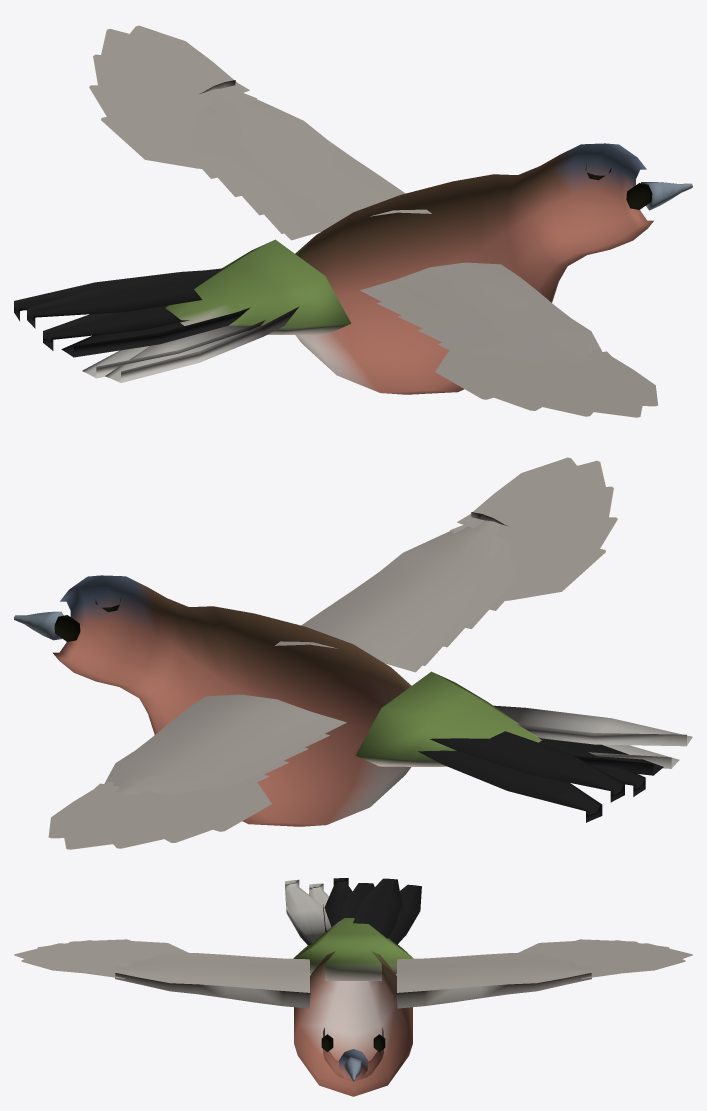
The model's file is SM_Bird_chaffinch_glide_LOD1.glb.
The picture shows the model from 3 angles, top to bottom: view 1: azimuth 30°, elevation 25°; view 2: azimuth 150°, elevation 25°; view 3: azimuth 270°, elevation 25°; orthographic projection. The views are drawn at different scales.
Parts seen in each view (by area): view 1: SM_Bird_chaffinch_glide_LOD1; view 2: SM_Bird_chaffinch_glide_LOD1; view 3: SM_Bird_chaffinch_glide_LOD1.
Part boxes in pixels (x1,y1,x2,y2): SM_Bird_chaffinch_glide_LOD1: (14, 25, 692, 417); SM_Bird_chaffinch_glide_LOD1: (14, 457, 692, 849); SM_Bird_chaffinch_glide_LOD1: (14, 878, 692, 1096).
Bounding box in the file's own units: 0.1714 × 0.0527 × 0.2483.
